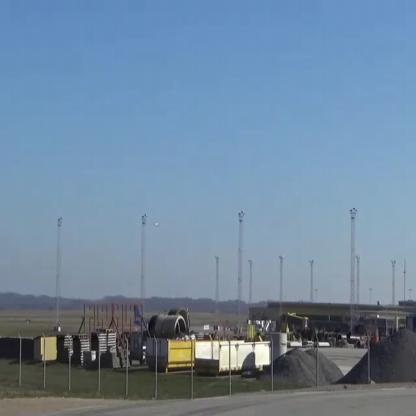CIV_Plane: (152, 220, 160, 228)
